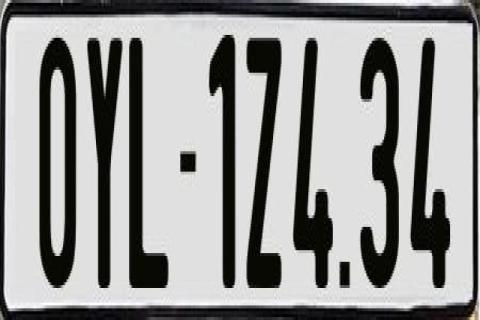0: (36, 35, 80, 294), (410, 38, 450, 297), (291, 29, 331, 279), (359, 32, 396, 285), (208, 32, 236, 288)
L: (128, 29, 172, 294)
Y: (88, 32, 126, 291)
Z: (245, 29, 286, 297)
